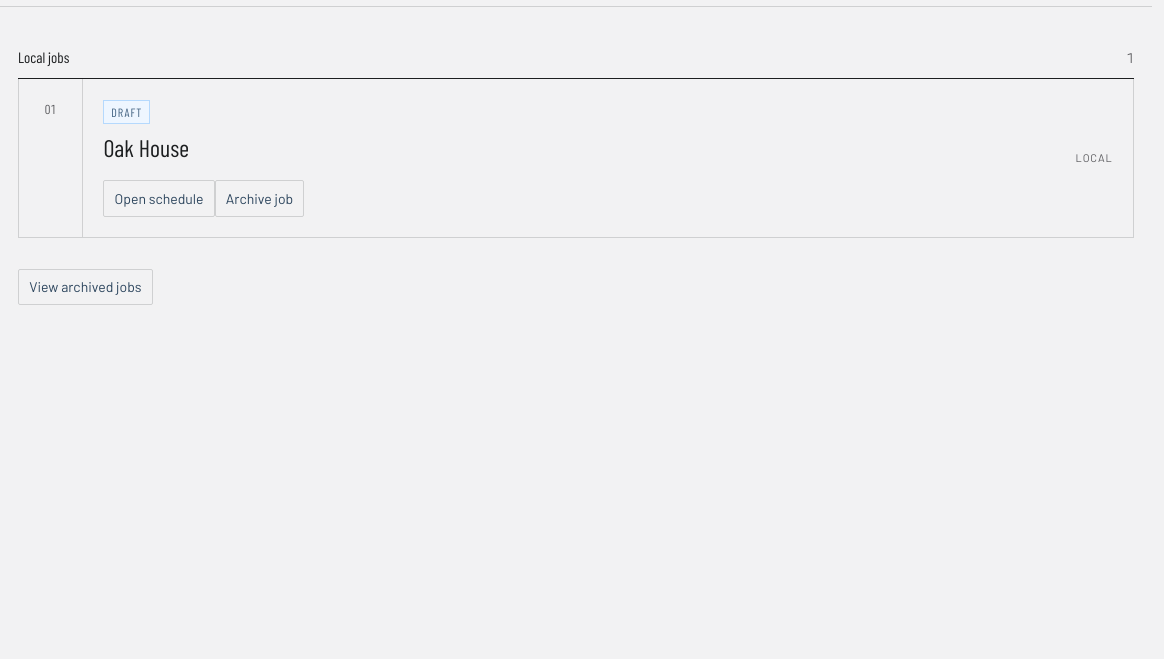
Test: task workspace › uses the Gantt row to select one editor and keeps advanced controls closed
Click the button with aria-label "Open schedule for Oak House". click: (159, 198)
box: 103,180 -> 215,217
(page scrolled)
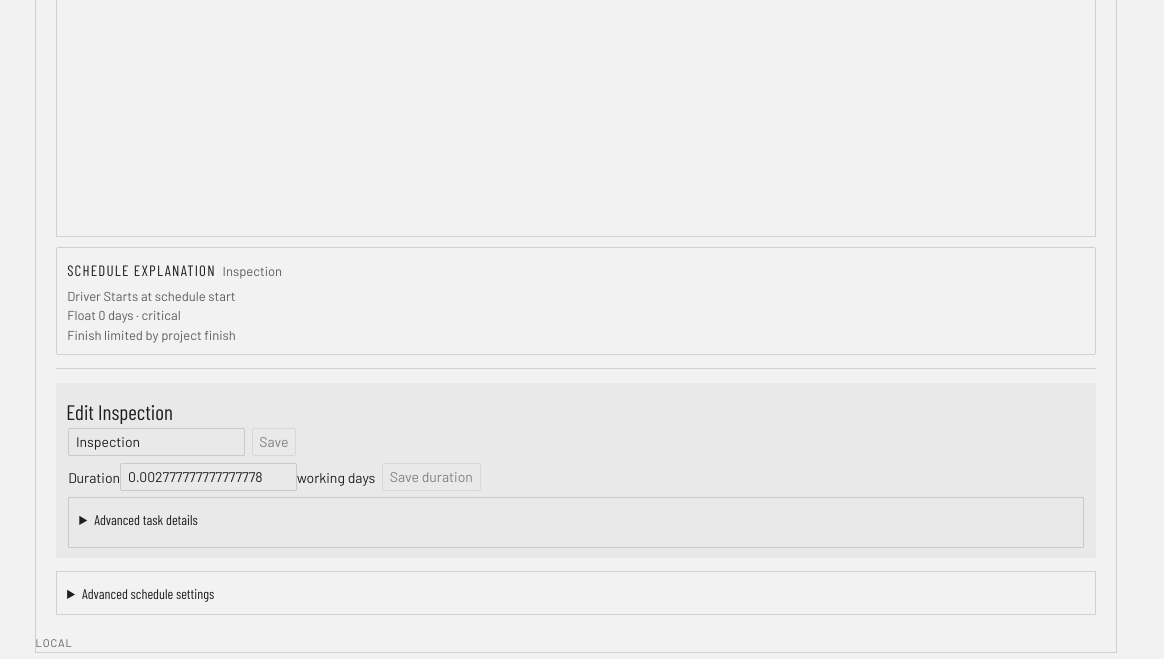
Now the heading "Edit Inspection" is shown, box 66,399 -> 173,424
Now the number of fields named "Task name for " is 1, box 68,428 -> 245,456
